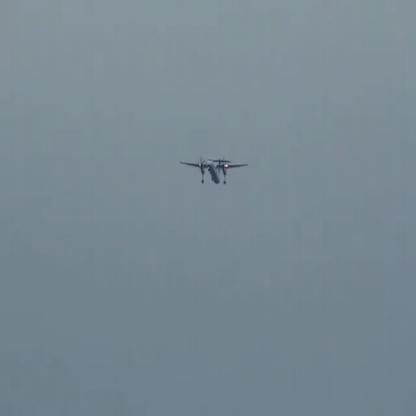CIV_Plane: (178, 154, 248, 186)
